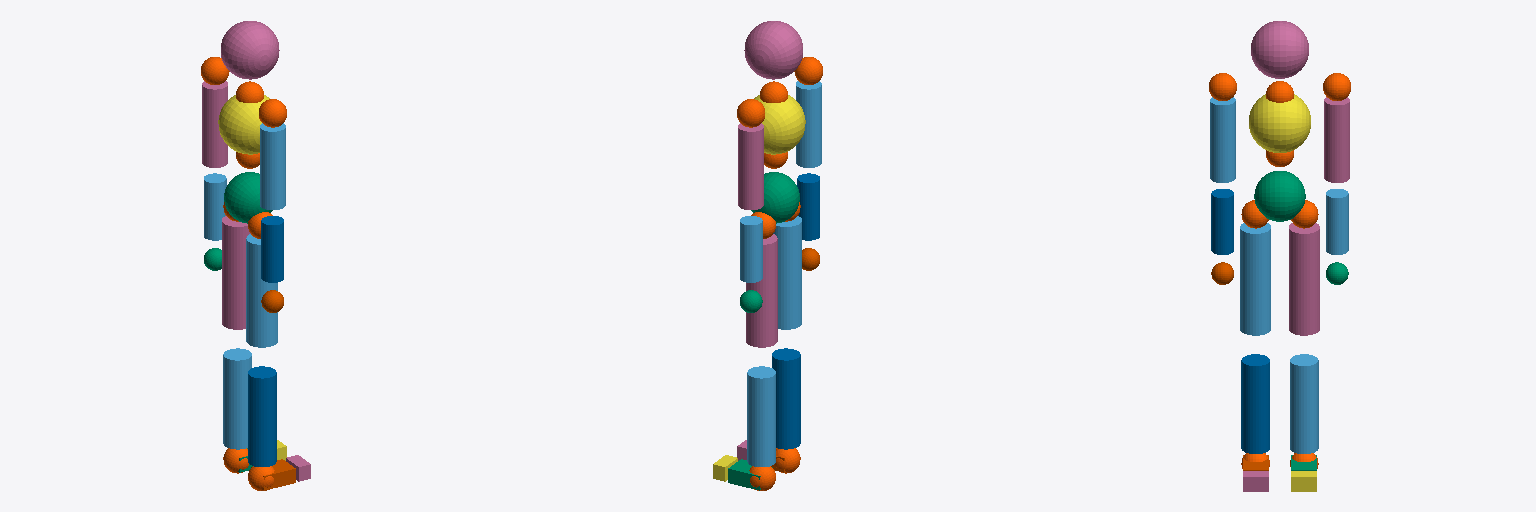
--- Render facts (derived) ---
Views: 3 orthographic renders of the robot side by side, from view 1: azimuth 30°, elevation 25°; view 2: azimuth 150°, elevation 25°; view 3: azimuth 270°, elevation 25°.
Robot: W0003 — 35 links, 34 joints (28 revolute, 6 fixed); root link base_link; default pose: every joint at zero.
Visible links, largest first — view 1: right_knee, neck, left_hip, left_knee, right_hip, right_shoulder, chest, left_shoulder, root, right_elbow, left_elbow, chest_right_shoulder_link2 (+2 smaller); view 2: left_knee, neck, right_hip, right_knee, left_hip, left_shoulder, chest, right_shoulder, root, left_elbow, right_elbow, chest_left_shoulder_link2 (+2 smaller); view 3: right_hip, left_hip, right_knee, left_knee, chest, neck, right_shoulder, left_shoulder, root, right_elbow, left_elbow, chest_right_shoulder_link2 (+3 smaller).
Boxes of the visible links, bbox=[...] form: right_knee: bbox=[248, 366, 276, 466]; neck: bbox=[221, 21, 279, 79]; left_hip: bbox=[222, 216, 250, 329]; left_knee: bbox=[223, 348, 251, 449]; right_hip: bbox=[246, 234, 277, 347]; right_shoulder: bbox=[260, 123, 285, 209]; chest: bbox=[218, 95, 269, 154]; left_shoulder: bbox=[202, 81, 227, 167]; root: bbox=[224, 172, 272, 223]; right_elbow: bbox=[261, 216, 283, 282]; left_elbow: bbox=[204, 173, 226, 240]; chest_right_shoulder_link2: bbox=[259, 99, 286, 127]; left_knee: bbox=[747, 366, 775, 466]; neck: bbox=[744, 21, 802, 79]; right_hip: bbox=[773, 216, 801, 329]; right_knee: bbox=[772, 348, 800, 449]; left_hip: bbox=[746, 234, 777, 347]; left_shoulder: bbox=[738, 123, 763, 209]; chest: bbox=[754, 95, 805, 154]; right_shoulder: bbox=[796, 81, 821, 167]; root: bbox=[751, 172, 799, 223]; left_elbow: bbox=[740, 216, 762, 282]; right_elbow: bbox=[797, 173, 819, 240]; chest_left_shoulder_link2: bbox=[737, 99, 764, 127]; right_hip: bbox=[1240, 223, 1270, 335]; left_hip: bbox=[1289, 223, 1319, 335]; right_knee: bbox=[1241, 354, 1269, 453]; left_knee: bbox=[1290, 354, 1318, 453]; chest: bbox=[1249, 94, 1310, 152]; neck: bbox=[1251, 21, 1308, 78]; right_shoulder: bbox=[1210, 97, 1235, 182]; left_shoulder: bbox=[1324, 97, 1349, 182]; root: bbox=[1254, 171, 1305, 221]; right_elbow: bbox=[1211, 189, 1233, 254]; left_elbow: bbox=[1326, 189, 1348, 254]; chest_right_shoulder_link2: bbox=[1209, 73, 1236, 100].
Size in the robot's own frame: 0.28 by 0.5 by 1.75 metres.
Geometry: primitives only (box / cylinder / sphere), no mesh files.

URDF robot description (W0003):
<?xml version="1.0" ?>
            <robot name="W0003">
            <material name="orange">
                <color rgba="1.0 0.4235294117647059 0.0392156862745098 1.0"/>
            </material>
            <link name="base_link">
                </link>
            <link name="base">
                </link>
            <joint name="j_base_base_link_rotation" type="fixed">
                <parent link="base_link"/>
                <child link="base"/>
                <origin rpy="1.5707963267948966 0 0" xyz="0 0 0"/>
            </joint>
            <link name="root">
                <inertial>
                <origin rpy="0 0 0" xyz="0.0 0.07 0.0"/>
                <mass value="6.000000"/>
                <inertia ixx="0.019440000000000002" ixy="0" ixz="0" iyy="0.019440000000000002" iyz="0" izz="0.019440000000000002"/>
                </inertial>
                <collision>
                <origin rpy="0 0 0" xyz="0.000000 0.070000 0.000000"/>
                <geometry>
                    <sphere radius="0.09"/>
                </geometry>
                </collision>
                <visual>
                <origin rpy="0 0 0" xyz="0.000000 0.070000 0.000000"/>
                <geometry>
                    <sphere radius="0.09"/>
                </geometry>
                </visual>
            </link>
            <joint name="j_root" type="fixed">
                <parent link="base"/>
                <child link="root"/>
                <origin rpy="0 0 0" xyz="0 0.000000 0.000000"/>
            </joint>
            <link name="chest">
                <inertial>
                <origin rpy="0 0 0" xyz="0.000000 0.120000 0.000000"/>
                <mass value="14.000000"/>
                <inertia ixx="0.06776000000000001" ixy="0" ixz="0" iyy="0.06776000000000001" iyz="0" izz="0.06776000000000001"/>
                </inertial>
                <collision>
                <origin rpy="0 0 0" xyz="0.000000 0.120000 0.000000"/>
                <geometry>
                    <sphere radius="0.11"/>
                </geometry>
                </collision>
                <visual>
                <origin rpy="0 0 0" xyz="0.000000 0.120000 0.000000"/>
                <geometry>
                    <sphere radius="0.11"/>
                </geometry>
                </visual>
            </link>
            <link name="root_chest_link1">
                <inertial>
                <mass value="1e-02"/>
                <inertia ixx="1e-02" ixy="0" ixz="0" iyy="1e-02" iyz="0" izz="1e-02"/>
                </inertial>
            </link>
            <joint name="j_root_chest_joint1" type="revolute">
                <origin rpy="0 0 0" xyz="0.0 0.236151 0.000000"/>
                <parent link="root"/>
                <child link="root_chest_link1"/>
                <axis xyz="1 0 0"/>
                <limit effort="200" lower="-1.2" upper="1.2" velocity="3"/>
            </joint>
            <link name="root_chest_link2">
                <inertial>
                <mass value="1e-02"/>
                <inertia ixx="1e-02" ixy="0" ixz="0" iyy="1e-02" iyz="0" izz="1e-02"/>
                </inertial>
                <visual>
                <geometry>
                    <sphere radius="0.05"/>
                </geometry>
                <material name="orange"/>
                </visual>
            </link>
            <joint name="j_root_chest_joint2" type="revolute">
                <parent link="root_chest_link1"/>
                <child link="root_chest_link2"/>
                <axis xyz="0 1 0"/>
                <limit effort="200" lower="-1.2" upper="1.2" velocity="3"/>
            </joint>
            <joint name="j_root_chest_joint3" type="revolute">
                <parent link="root_chest_link2"/>
                <child link="chest"/>
                <axis xyz="0 0 1"/>
                <limit effort="200" lower="-1.2" upper="1.2" velocity="3"/>
            </joint>
            <link name="neck">
                <inertial>
                <origin rpy="0 0 0" xyz="0.0 0.175 0.0"/>
                <mass value="2.000000"/>
                <inertia ixx="0.008405" ixy="0" ixz="0" iyy="0.008405" iyz="0" izz="0.008405"/>
                </inertial>
                <collision>
                <origin rpy="0 0 0" xyz="0.0 0.175 0.0"/>
                <geometry>
                    <sphere radius="0.1025"/>
                </geometry>
                </collision>
                <visual>
                <origin rpy="0 0 0" xyz="0.0 0.175 0.0"/>
                <geometry>
                    <sphere radius="0.1025"/>
                </geometry>
                </visual>
            </link>
            <link name="chest_neck_link1">
                <inertial>
                <mass value="1e-02"/>
                <inertia ixx="1e-02" ixy="0" ixz="0" iyy="1e-02" iyz="0" izz="1e-02"/>
                </inertial>
            </link>
            <joint name="j_chest_neck_joint1" type="revolute">
                <origin rpy="0 0 0" xyz="0.000000 0.223894 0.000000"/>
                <parent link="chest"/>
                <child link="chest_neck_link1"/>
                <axis xyz="1 0 0"/>
                <limit effort="50" lower="-1" upper="1" velocity="3"/>
            </joint>
            <link name="chest_neck_link2">
                <inertial>
                <mass value="1e-02"/>
                <inertia ixx="1e-02" ixy="0" ixz="0" iyy="1e-02" iyz="0" izz="1e-02"/>
                </inertial>
                <visual>
                <geometry>
                    <sphere radius="0.05"/>
                </geometry>
                <material name="orange"/>
                </visual>
            </link>
            <joint name="j_chest_neck_joint2" type="revolute">
                <parent link="chest_neck_link1"/>
                <child link="chest_neck_link2"/>
                <axis xyz="0 1 0"/>
                <limit effort="50" lower="-1" upper="1" velocity="3"/>
            </joint>
            <joint name="j_chest_neck_joint3" type="revolute">
                <parent link="chest_neck_link2"/>
                <child link="neck"/>
                <axis xyz="0 0 1"/>
                <limit effort="50" lower="-1" upper="1" velocity="3"/>
            </joint>
            <link name="right_hip">
                <inertial>
                <origin rpy="0 0 0" xyz="0.000000 -0.210000 0.000000"/>
                <mass value="4.500000"/>
                <inertia ixx="0.037153124999999995" ixy="0.0" ixz="0.0" iyy="0.037153124999999995" iyz="0.0" izz="0.00680625"/>
                </inertial>
                <collision>
                <origin rpy="1.5707963267948966 0 0" xyz="0.000000 -0.210000 0.000000"/>
                <geometry>
                    <cylinder length="0.22499999999999998" radius="0.0275"/>
                </geometry>
                </collision>
                <visual>
                <origin rpy="1.5707963267948966 0 0" xyz="0.000000 -0.2465 0.000000"/>
                <geometry>
                    <cylinder length="0.39299999999999996" radius="0.055"/>
                </geometry>
                </visual>
            </link>
            <link name="root_right_hip_link1">
                <inertial>
                <mass value="1e-02"/>
                <inertia ixx="1e-02" ixy="0" ixz="0" iyy="1e-02" iyz="0" izz="1e-02"/>
                </inertial>
            </link>
            <joint name="j_root_right_hip_joint1" type="revolute">
                <origin rpy="0 0 0" xyz="0.000000 0.000000 0.084887"/>
                <parent link="root"/>
                <child link="root_right_hip_link1"/>
                <axis xyz="1 0 0"/>
                <limit effort="200" lower="-1.5" upper="1.5" velocity="3"/>
            </joint>
            <link name="root_right_hip_link2">
                <inertial>
                <mass value="1e-02"/>
                <inertia ixx="1e-02" ixy="0" ixz="0" iyy="1e-02" iyz="0" izz="1e-02"/>
                </inertial>
                <visual>
                <geometry>
                    <sphere radius="0.05"/>
                </geometry>
                <material name="orange"/>
                </visual>
            </link>
            <joint name="j_root_right_hip_joint2" type="revolute">
                <parent link="root_right_hip_link1"/>
                <child link="root_right_hip_link2"/>
                <axis xyz="0 1 0"/>
                <limit effort="200" lower="-1.5" upper="1.5" velocity="3"/>
            </joint>
            <joint name="j_root_right_hip_joint3" type="revolute">
                <parent link="root_right_hip_link2"/>
                <child link="right_hip"/>
                <axis xyz="0 0 1"/>
                <limit effort="200" lower="-1.5" upper="1.5" velocity="3"/>
            </joint>
            <link name="right_knee">
                <inertial>
                <origin rpy="0 0 0" xyz="0.000000 -0.200000 0.000000"/>
                <mass value="3.000000"/>
                <inertia ixx="0.1" ixy="0" ixz="0" iyy="0.1" iyz="0" izz="0.1"/>
                </inertial>
                <collision>
                <origin rpy="1.5707963267948966 0 0" xyz="0.000000 -0.200000 0.000000"/>
                <geometry>
                    <cylinder length="0.23249999999999998" radius="0.025"/>
                </geometry>
                </collision>
                <visual>
                <origin rpy="1.5707963267948966 0 0" xyz="0.000000 -0.2 0.000000"/>
                <geometry>
                    <cylinder length="0.34" radius="0.05"/>
                </geometry>
                </visual>
            </link>
            <joint name="j_right_knee" type="revolute">
                <parent link="right_hip"/>
                <child link="right_knee"/>
                <limit effort="150.0" lower="-3.14" upper="0." velocity="0.5"/>
                <origin rpy="0 0 0" xyz="0.000000 -0.5329999999999999 0.000000"/>
                <axis xyz="0.000000 0.000000 1.000000"/>
            </joint>
            <link name="right_ankle">
                <inertial>
                <origin rpy="0 0 0" xyz="0.045 -0.00225 0.000000"/>
                <mass value="1.000000"/>
                <inertia ixx="0.0009270833333333333" ixy="0.0" ixz="0.0" iyy="0.0028628333333333327" iyz="0.0" izz="0.003285749999999999"/>
                </inertial>
                <collision>
                <origin rpy="0 0 0" xyz="0.045 -0.00225 0.000000"/>
                <geometry>
                    <box size="0.127 0.055 0.09"/>
                </geometry>
                </collision>
                <visual>
                <origin rpy="0 0 0" xyz="0.045 -0.00225 0.000000"/>
                <geometry>
                    <box size="0.127 0.055 0.09"/>
                </geometry>
                </visual>
            </link>
            <joint name="j_right_toe" type="fixed">
                <parent link="right_ankle"/>
                <child link="right_toe"/>
                <limit effort="150.0" lower="-3.14" upper="0." velocity="0.5"/>
                <origin rpy="0 0 0" xyz="0.1 0.0 0.0"/>
                <axis xyz="0.000000 0.000000 1.000000"/>
            </joint>
            <link name="right_toe">
                <inertial>
                <origin rpy="0 0 0" xyz="0.045 0.0 0.0"/>
                <mass value="0.3"/>
                <inertia ixx="0.0009270833333333333" ixy="0.0" ixz="0.0" iyy="0.0028628333333333327" iyz="0.0" izz="0.003285749999999999"/>
                </inertial>
                <collision>
                <origin rpy="0 0 0" xyz="0.045 0.0 0.0"/>
                <geometry>
                    <box size="0.05 0.055 0.09"/>
                </geometry>
                </collision>
                <visual>
                <origin rpy="0 0 0" xyz="0.045 0.0 0.0"/>
                <geometry>
                    <box size="0.05 0.055 0.09"/>
                </geometry>
                </visual>
            </link>
            <link name="right_knee_right_ankle_link1">
                <inertial>
                <mass value="1e-02"/>
                <inertia ixx="1e-02" ixy="0" ixz="0" iyy="1e-02" iyz="0" izz="1e-02"/>
                </inertial>
            </link>
            <joint name="j_right_knee_right_ankle_joint1" type="revolute">
                <origin rpy="0 0 0" xyz="0.000000 -0.43000000000000005 0.000000"/>
                <parent link="right_knee"/>
                <child link="right_knee_right_ankle_link1"/>
                <axis xyz="1 0 0"/>
                <limit effort="90" lower="-1.2" upper="1.2" velocity="3"/>
            </joint>
            <link name="right_knee_right_ankle_link2">
                <inertial>
                <mass value="1e-02"/>
                <inertia ixx="1e-02" ixy="0" ixz="0" iyy="1e-02" iyz="0" izz="1e-02"/>
                </inertial>
                <visual>
                <geometry>
                    <sphere radius="0.05"/>
                </geometry>
                <material name="orange"/>
                </visual>
            </link>
            <joint name="j_right_knee_right_ankle_joint2" type="revolute">
                <parent link="right_knee_right_ankle_link1"/>
                <child link="right_knee_right_ankle_link2"/>
                <axis xyz="0 1 0"/>
                <limit effort="90" lower="-1.2" upper="1.2" velocity="3"/>
            </joint>
            <joint name="j_right_knee_right_ankle_joint3" type="revolute">
                <parent link="right_knee_right_ankle_link2"/>
                <child link="right_ankle"/>
                <axis xyz="0 0 1"/>
                <limit effort="90" lower="-1.2" upper="1.2" velocity="3"/>
            </joint>
            <link name="right_shoulder">
                <inertial>
                <origin rpy="0 0 0" xyz="0.000000 -0.140000 0.000000"/>
                <mass value="1.500000"/>
                <inertia ixx="0.004809374999999999" ixy="0.0" ixz="0.0" iyy="0.004809374999999999" iyz="0.0" izz="0.0015187500000000001"/>
                </inertial>
                <collision>
                <origin rpy="1.5707963267948966 0 0" xyz="0.000000 -0.140000 0.000000"/>
                <geometry>
                    <cylinder length="0.135" radius="0.0225"/>
                </geometry>
                </collision>
                <visual>
                <origin rpy="1.5707963267948966 0 0" xyz="0.000000 -0.2 0.000000"/>
                <geometry>
                    <cylinder length="0.3" radius="0.045"/>
                </geometry>
                </visual>
            </link>
            <link name="chest_right_shoulder_link1">
                <inertial>
                <mass value="1e-02"/>
                <inertia ixx="1e-02" ixy="0" ixz="0" iyy="1e-02" iyz="0" izz="1e-02"/>
                </inertial>
            </link>
            <joint name="j_chest_right_shoulder_joint1" type="revolute">
                <origin rpy="0 0 0" xyz="-0.02406 0.24350 0.2"/>
                <parent link="chest"/>
                <child link="chest_right_shoulder_link1"/>
                <axis xyz="1 0 0"/>
                <limit effort="100" lower="-3.14" upper="3.14" velocity="3"/>
            </joint>
            <link name="chest_right_shoulder_link2">
                <inertial>
                <mass value="1e-02"/>
                <inertia ixx="1e-02" ixy="0" ixz="0" iyy="1e-02" iyz="0" izz="1e-02"/>
                </inertial>
                <visual>
                <geometry>
                    <sphere radius="0.05"/>
                </geometry>
                <material name="orange"/>
                </visual>
            </link>
            <joint name="j_chest_right_shoulder_joint2" type="revolute">
                <parent link="chest_right_shoulder_link1"/>
                <child link="chest_right_shoulder_link2"/>
                <axis xyz="0 1 0"/>
                <limit effort="100" lower="-3.14" upper="3.14" velocity="3"/>
            </joint>
            <joint name="j_chest_right_shoulder_joint3" type="revolute">
                <parent link="chest_right_shoulder_link2"/>
                <child link="right_shoulder"/>
                <axis xyz="0 0 1"/>
                <limit effort="100" lower="-3.14" upper="3.14" velocity="3"/>
            </joint>
            <link name="right_elbow">
                <inertial>
                <origin rpy="0 0 0" xyz="0.000000 -0.120000 0.000000"/>
                <mass value="1.000000"/>
                <inertia ixx="0.0019187499999999999" ixy="0.0" ixz="0.0" iyy="0.0019187499999999999" iyz="0.0" izz="0.0008"/>
                </inertial>
                <collision>
                <origin rpy="1.5707963267948966 0 0" xyz="0.0 -0.12 0.0"/>
                <geometry>
                    <cylinder length="0.10125" radius="0.02"/>
                </geometry>
                </collision>
                <visual>
                <origin rpy="1.5707963267948966 0 0" xyz="0.0 -0.12 0.0"/>
                <geometry>
                    <cylinder length="0.22" radius="0.04"/>
                </geometry>
                </visual>
            </link>
            <joint name="j_right_elbow" type="revolute">
                <parent link="right_shoulder"/>
                <child link="right_elbow"/>
                <limit effort="60.0" lower="0" upper="3.14" velocity="0.5"/>
                <origin rpy="0 0 0" xyz="0.000000 -0.4 0.000000"/>
                <axis xyz="0.000000 0.000000 1.000000"/>
            </joint>
            <link name="right_wrist">
                <inertial>
                <origin rpy="0 0 0" xyz="0.000000 0.000000 0.000000"/>
                <mass value="0.500000"/>
                <inertia ixx="0.00032" ixy="0" ixz="0" iyy="0.00032" iyz="0" izz="0.00032"/>
                </inertial>
                <collision>
                <origin rpy="0 0 0" xyz="0.000000 0.000000 0.000000"/>
                <geometry>
                    <sphere radius="0.04"/>
                </geometry>
                </collision>
                <visual>
                <origin rpy="0 0 0" xyz="0.000000 0.000000 0.000000"/>
                <geometry>
                    <sphere radius="0.04"/>
                </geometry>
                </visual>
            </link>
            <joint name="j_right_wrist" type="fixed">
                <parent link="right_elbow"/>
                <child link="right_wrist"/>
                <origin rpy="0 0 0" xyz="0.000000 -0.32 0.000000"/>
            </joint>
            <link name="left_hip">
                <inertial>
                <origin rpy="0 0 0" xyz="0.000000 -0.210000 0.000000"/>
                <mass value="4.500000"/>
                <inertia ixx="0.037153124999999995" ixy="0.0" ixz="0.0" iyy="0.037153124999999995" iyz="0.0" izz="0.00680625"/>
                </inertial>
                <collision>
                <origin rpy="1.5707963267948966 0 0" xyz="0.000000 -0.210000 0.000000"/>
                <geometry>
                    <cylinder length="0.22499999999999998" radius="0.0275"/>
                </geometry>
                </collision>
                <visual>
                <origin rpy="1.5707963267948966 0 0" xyz="0.000000 -0.2465 0.000000"/>
                <geometry>
                    <cylinder length="0.39299999999999996" radius="0.055"/>
                </geometry>
                </visual>
            </link>
            <link name="root_left_hip_link1">
                <inertial>
                <mass value="1e-02"/>
                <inertia ixx="1e-02" ixy="0" ixz="0" iyy="1e-02" iyz="0" izz="1e-02"/>
                </inertial>
            </link>
            <joint name="j_root_left_hip_joint1" type="revolute">
                <origin rpy="0 0 0" xyz="0.000000 0.000000 -0.084887"/>
                <parent link="root"/>
                <child link="root_left_hip_link1"/>
                <axis xyz="1 0 0"/>
                <limit effort="200" lower="-1.5" upper="1.5" velocity="3"/>
            </joint>
            <link name="root_left_hip_link2">
                <inertial>
                <mass value="1e-02"/>
                <inertia ixx="1e-02" ixy="0" ixz="0" iyy="1e-02" iyz="0" izz="1e-02"/>
                </inertial>
                <visual>
                <geometry>
                    <sphere radius="0.05"/>
                </geometry>
                <material name="orange"/>
                </visual>
            </link>
            <joint name="j_root_left_hip_joint2" type="revolute">
                <parent link="root_left_hip_link1"/>
                <child link="root_left_hip_link2"/>
                <axis xyz="0 1 0"/>
                <limit effort="200" lower="-1.5" upper="1.5" velocity="3"/>
            </joint>
            <joint name="j_root_left_hip_joint3" type="revolute">
                <parent link="root_left_hip_link2"/>
                <child link="left_hip"/>
                <axis xyz="0 0 1"/>
                <limit effort="200" lower="-1.5" upper="1.5" velocity="3"/>
            </joint>
            <link name="left_knee">
                <inertial>
                <origin rpy="0 0 0" xyz="0.000000 -0.200000 0.000000"/>
                <mass value="3.000000"/>
                <inertia ixx="0.025900000000000003" ixy="0.0" ixz="0.0" iyy="0.025900000000000003" iyz="0.0" izz="0.0037500000000000007"/>
                </inertial>
                <collision>
                <origin rpy="1.5707963267948966 0 0" xyz="0.000000 -0.200000 0.000000"/>
                <geometry>
                    <cylinder length="0.23249999999999998" radius="0.025"/>
                </geometry>
                </collision>
                <visual>
                <origin rpy="1.5707963267948966 0 0" xyz="0.000000 -0.2 0.000000"/>
                <geometry>
                    <cylinder length="0.34" radius="0.05"/>
                </geometry>
                </visual>
            </link>
            <joint name="j_left_knee" type="revolute">
                <parent link="left_hip"/>
                <child link="left_knee"/>
                <limit effort="150.0" lower="-3.14" upper="0." velocity="0.5"/>
                <origin rpy="0 0 0" xyz="0.000000 -0.5329999999999999 0.000000"/>
                <axis xyz="0.000000 0.000000 1.000000"/>
            </joint>
            <link name="left_ankle">
                <inertial>
                <origin rpy="0 0 0" xyz="0.045 -0.00225 0.0"/>
                <mass value="0.7"/>
                <inertia ixx="0.0009270833333333333" ixy="0.0" ixz="0.0" iyy="0.0028628333333333327" iyz="0.0" izz="0.003285749999999999"/>
                </inertial>
                <collision>
                <origin rpy="0 0 0" xyz="0.045 -0.00225 0.0"/>
                <geometry>
                    <box size="0.127 0.055 0.09"/>
                </geometry>
                </collision>
                <visual>
                <origin rpy="0 0 0" xyz="0.045 -0.00225 0.0"/>
                <geometry>
                    <box size="0.127 0.055 0.09"/>
                </geometry>
                </visual>
            </link>
            <joint name="j_left_toe" type="fixed">
                <parent link="left_ankle"/>
                <child link="left_toe"/>
                <limit effort="150.0" lower="-3.14" upper="0." velocity="0.5"/>
                <origin rpy="0 0 0" xyz="0.1 0.0 0.0"/>
                <axis xyz="0.000000 0.000000 1.000000"/>
            </joint>
            <link name="left_toe">
                <inertial>
                <origin rpy="0 0 0" xyz="0.045 0.0 0.0"/>
                <mass value="0.3"/>
                <inertia ixx="0.0009270833333333333" ixy="0.0" ixz="0.0" iyy="0.0028628333333333327" iyz="0.0" izz="0.003285749999999999"/>
                </inertial>
                <collision>
                <origin rpy="0 0 0" xyz="0.045 0.0 0.0"/>
                <geometry>
                    <box size="0.05 0.055 0.09"/>
                </geometry>
                </collision>
                <visual>
                <origin rpy="0 0 0" xyz="0.045 0.0 0.0"/>
                <geometry>
                    <box size="0.05 0.055 0.09"/>
                </geometry>
                </visual>
            </link>
            <link name="left_knee_left_ankle_link1">
                <inertial>
                <mass value="1e-02"/>
                <inertia ixx="1e-02" ixy="0" ixz="0" iyy="1e-02" iyz="0" izz="1e-02"/>
                </inertial>
            </link>
            <joint name="j_left_knee_left_ankle_joint1" type="revolute">
                <origin rpy="0 0 0" xyz="0.000000 -0.43000000000000005 0.000000"/>
                <parent link="left_knee"/>
                <child link="left_knee_left_ankle_link1"/>
                <axis xyz="1 0 0"/>
                <limit effort="90" lower="-1.2" upper="1.2" velocity="3"/>
            </joint>
            <link name="left_knee_left_ankle_link2">
                <inertial>
                <mass value="1e-02"/>
                <inertia ixx="1e-02" ixy="0" ixz="0" iyy="1e-02" iyz="0" izz="1e-02"/>
                </inertial>
                <visual>
                <geometry>
                    <sphere radius="0.05"/>
                </geometry>
                <material name="orange"/>
                </visual>
            </link>
            <joint name="j_left_knee_left_ankle_joint2" type="revolute">
                <parent link="left_knee_left_ankle_link1"/>
                <child link="left_knee_left_ankle_link2"/>
                <axis xyz="0 1 0"/>
                <limit effort="90" lower="-1.2" upper="1.2" velocity="3"/>
            </joint>
            <joint name="j_left_knee_left_ankle_joint3" type="revolute">
                <parent link="left_knee_left_ankle_link2"/>
                <child link="left_ankle"/>
                <axis xyz="0 0 1"/>
                <limit effort="90" lower="-1.2" upper="1.2" velocity="3"/>
            </joint>
            <link name="left_shoulder">
                <inertial>
                <origin rpy="0 0 0" xyz="0.000000 -0.140000 0.000000"/>
                <mass value="1.500000"/>
                <inertia ixx="0.004809374999999999" ixy="0.0" ixz="0.0" iyy="0.004809374999999999" iyz="0.0" izz="0.0015187500000000001"/>
                </inertial>
                <collision>
                <origin rpy="1.5707963267948966 0 0" xyz="0.000000 -0.140000 0.000000"/>
                <geometry>
                    <cylinder length="0.135" radius="0.0225"/>
                </geometry>
                </collision>
                <visual>
                <origin rpy="1.5707963267948966 0 0" xyz="0.000000 -0.2 0.000000"/>
                <geometry>
                    <cylinder length="0.3" radius="0.045"/>
                </geometry>
                </visual>
            </link>
            <link name="chest_left_shoulder_link1">
                <inertial>
                <mass value="1e-02"/>
                <inertia ixx="1e-02" ixy="0" ixz="0" iyy="1e-02" iyz="0" izz="1e-02"/>
                </inertial>
            </link>
            <joint name="j_chest_left_shoulder_joint1" type="revolute">
                <origin rpy="0 0 0" xyz="-0.02405 0.24350 -0.2"/>
                <parent link="chest"/>
                <child link="chest_left_shoulder_link1"/>
                <axis xyz="1 0 0"/>
                <limit effort="100" lower="-3.14" upper="3.14" velocity="3"/>
            </joint>
            <link name="chest_left_shoulder_link2">
                <inertial>
                <mass value="1e-02"/>
                <inertia ixx="1e-02" ixy="0" ixz="0" iyy="1e-02" iyz="0" izz="1e-02"/>
                </inertial>
                <visual>
                <geometry>
                    <sphere radius="0.05"/>
                </geometry>
                <material name="orange"/>
                </visual>
            </link>
            <joint name="j_chest_left_shoulder_joint2" type="revolute">
                <parent link="chest_left_shoulder_link1"/>
                <child link="chest_left_shoulder_link2"/>
                <axis xyz="0 1 0"/>
                <limit effort="100" lower="-3.14" upper="3.14" velocity="3"/>
            </joint>
            <joint name="j_chest_left_shoulder_joint3" type="revolute">
                <parent link="chest_left_shoulder_link2"/>
                <child link="left_shoulder"/>
                <axis xyz="0 0 1"/>
                <limit effort="100" lower="-3.14" upper="3.14" velocity="3"/>
            </joint>
            <link name="left_elbow">
                <inertial>
                <origin rpy="0 0 0" xyz="0.000000 -0.12 0.000000"/>
                <mass value="1.000000"/>
                <inertia ixx="0.0019187499999999999" ixy="0.0" ixz="0.0" iyy="0.0019187499999999999" iyz="0.0" izz="0.0008"/>
                </inertial>
                <collision>
                <origin rpy="1.5707963267948966 0 0" xyz="0.000000 -0.12 0.000000"/>
                <geometry>
                    <cylinder length="0.10125" radius="0.02"/>
                </geometry>
                </collision>
                <visual>
                <origin rpy="1.5707963267948966 0 0" xyz="0.000000 -0.12 0.000000"/>
                <geometry>
                    <cylinder length="0.22" radius="0.04"/>
                </geometry>
                </visual>
            </link>
            <joint name="j_left_elbow" type="revolute">
                <parent link="left_shoulder"/>
                <child link="left_elbow"/>
                <limit effort="60.0" lower="0" upper="3.14" velocity="0.5"/>
                <origin rpy="0 0 0" xyz="0.000000 -0.4 0.000000"/>
                <axis xyz="0.000000 0.000000 1.000000"/>
            </joint>
            <link name="left_wrist">
                <inertial>
                <origin rpy="0 0 0" xyz="0.000000 0.000000 0.000000"/>
                <mass value="0.500000"/>
                <inertia ixx="0.00032" ixy="0" ixz="0" iyy="0.00032" iyz="0" izz="0.00032"/>
                </inertial>
                <collision>
                <origin rpy="0 0 0" xyz="0.000000 0.000000 0.000000"/>
                <geometry>
                    <sphere radius="0.04"/>
                </geometry>
                </collision>
                <visual>
                <origin rpy="0 0 0" xyz="0.000000 0.000000 0.000000"/>
                <geometry>
                    <sphere radius="0.04"/>
                </geometry>
                </visual>
            </link>
            <joint name="j_left_wrist_joint" type="fixed">
                <parent link="left_elbow"/>
                <child link="left_wrist"/>
                <origin rpy="0 0 0" xyz="0.000000 -0.32 0.000000"/>
            </joint>
            </robot>
            
